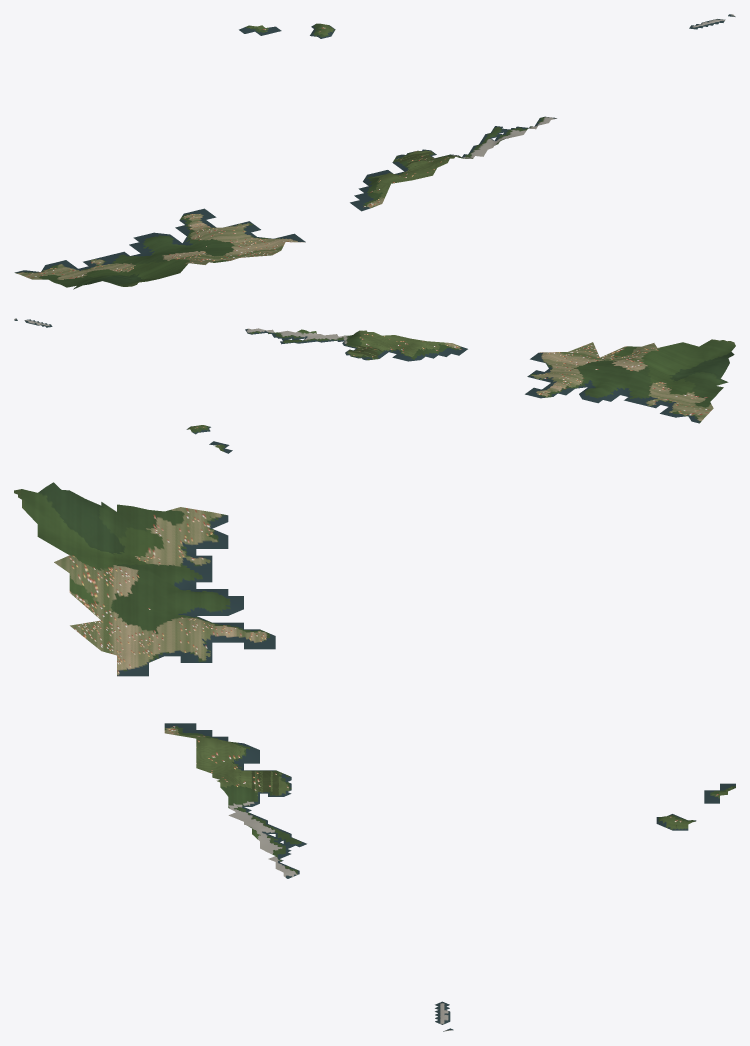
File: SM_Fondale_Colline_SE_LOD1.fbx
3 renders of one model, top to bottom at view 1: azimuth 30°, elevation 25°; view 2: azimuth 150°, elevation 25°; view 3: azimuth 270°, elevation 25°, orthographic. The views are drawn at different scales.
Parts seen in each view (by area): view 1: SM_Fondale_Colline_SE_LOD1; view 2: SM_Fondale_Colline_SE_LOD1; view 3: SM_Fondale_Colline_SE_LOD1.
Boxes of the visible parts, x1=… form: SM_Fondale_Colline_SE_LOD1: x1=14, y1=14, x2=735, y2=289; SM_Fondale_Colline_SE_LOD1: x1=14, y1=318, x2=735, y2=453; SM_Fondale_Colline_SE_LOD1: x1=14, y1=482, x2=735, y2=1031.
Size of the model in its own units: 924000 by 546000 by 41609.
Materials: 1 (1 with a texture image).
